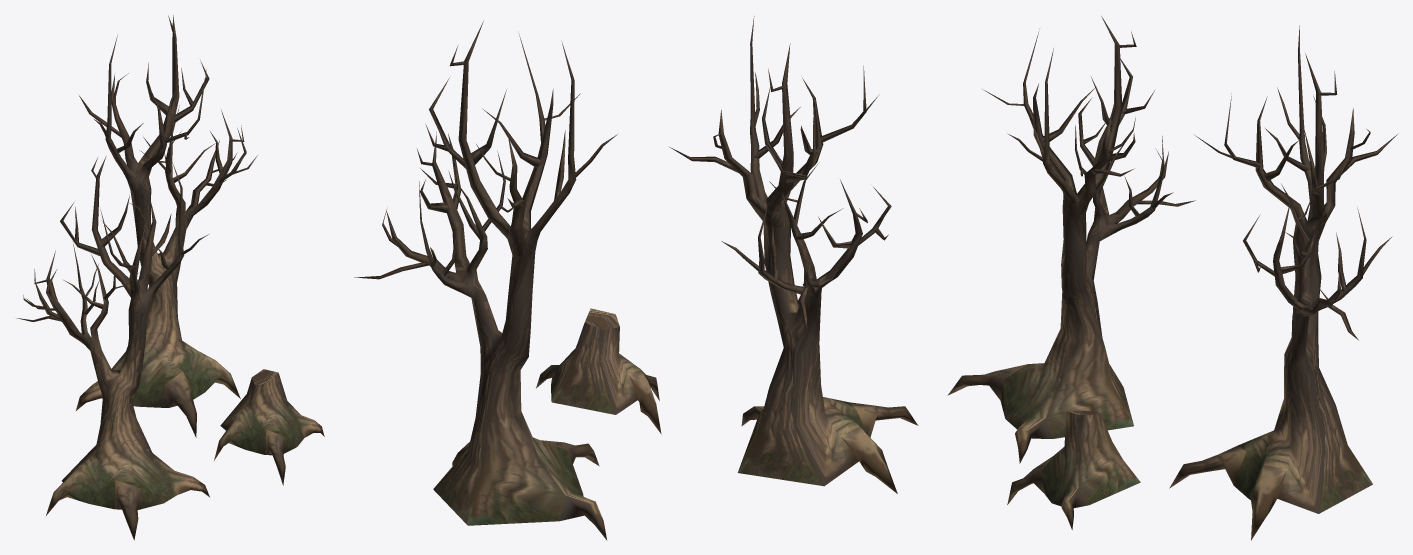
Rendered from plants_tall_tree_trunks12.fbx.
The picture shows the model from 3 angles, left to right: view 1: azimuth 30°, elevation 25°; view 2: azimuth 150°, elevation 25°; view 3: azimuth 270°, elevation 25°; orthographic projection. The views are drawn at different scales.
Parts seen in each view (by area): view 1: Material_#238683193/fancy_tree; view 2: Material_#238683193/fancy_tree; view 3: Material_#238683193/fancy_tree.
Part boxes in pixels (left/top/right/bottom): Material_#238683193/fancy_tree: left=16, top=15, right=324, bottom=540; Material_#238683193/fancy_tree: left=354, top=16, right=918, bottom=540; Material_#238683193/fancy_tree: left=947, top=16, right=1398, bottom=540.
Bounding box in the file's own units: 7.91 × 9.36 × 8.28.
